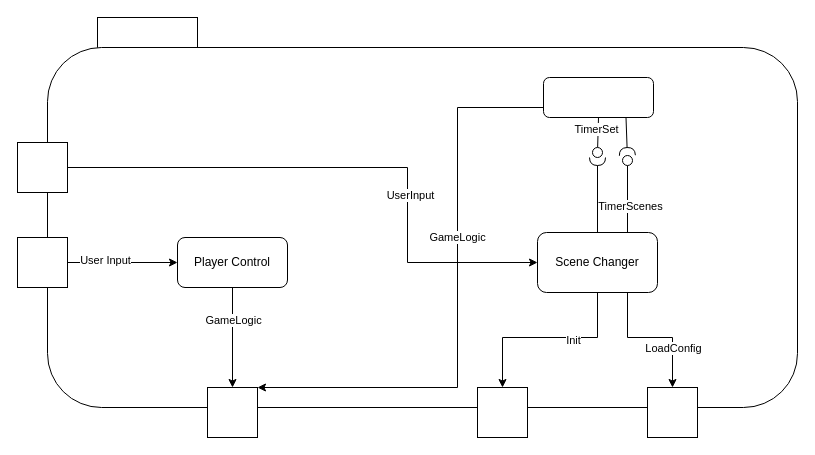
Some shapes in this 815 by 455 pixel diagram are drawn without their labels. Here are the shapes that lost their labels. From the top down, the centre of each, then its label:
At pixel 147 37: "Controller".
At pixel 598 97: "Timer".
